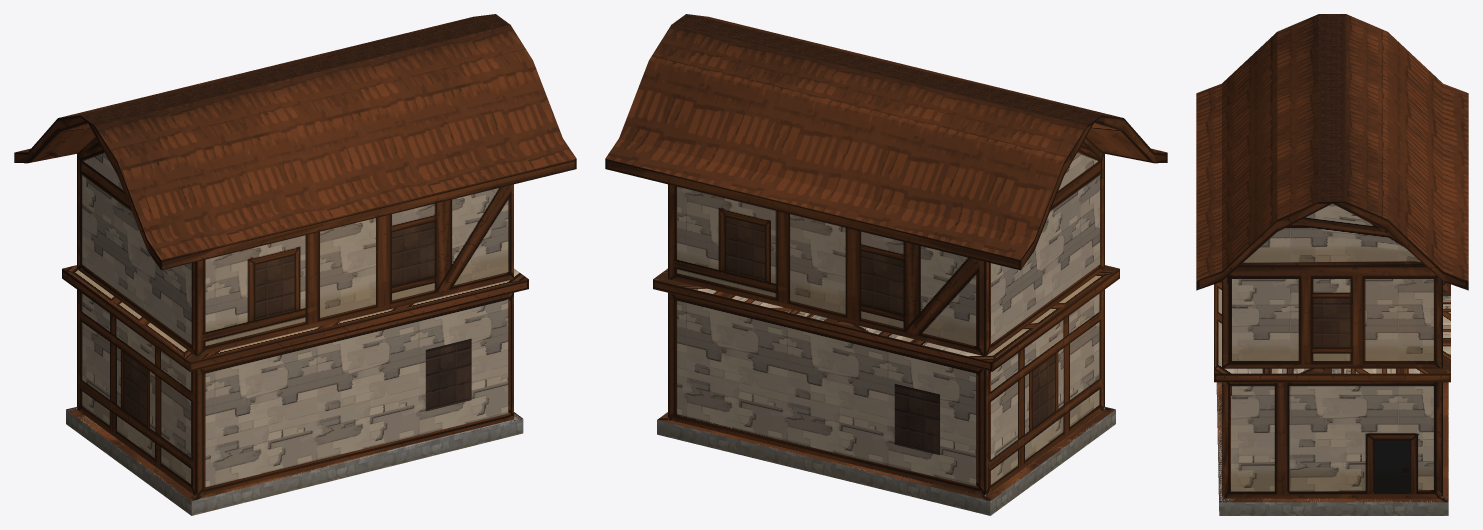
Rendered from House Base1_B.fbx.
3 views of the same model, side by side, from view 1: azimuth 30°, elevation 25°; view 2: azimuth 150°, elevation 25°; view 3: azimuth 270°, elevation 25° (orthographic). The views are drawn at different scales.
Visible parts, largest first — view 1: House Base 1b, House Base 1b_col; view 2: House Base 1b, House Base 1b_col; view 3: House Base 1b, House Base 1b_col.
Boxes of the visible parts, box(x1,y1,x2,y2) form: House Base 1b: box(14, 14, 576, 515); House Base 1b_col: box(62, 139, 528, 499); House Base 1b: box(605, 14, 1167, 515); House Base 1b_col: box(653, 141, 1119, 498); House Base 1b: box(1196, 14, 1468, 515); House Base 1b_col: box(1214, 203, 1450, 502).
Bounding box in the file's own units: 1517 × 1254 × 929.
